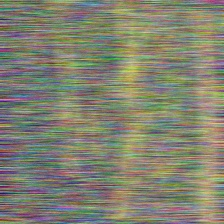Leaf_Blast: (180, 6, 224, 224)
